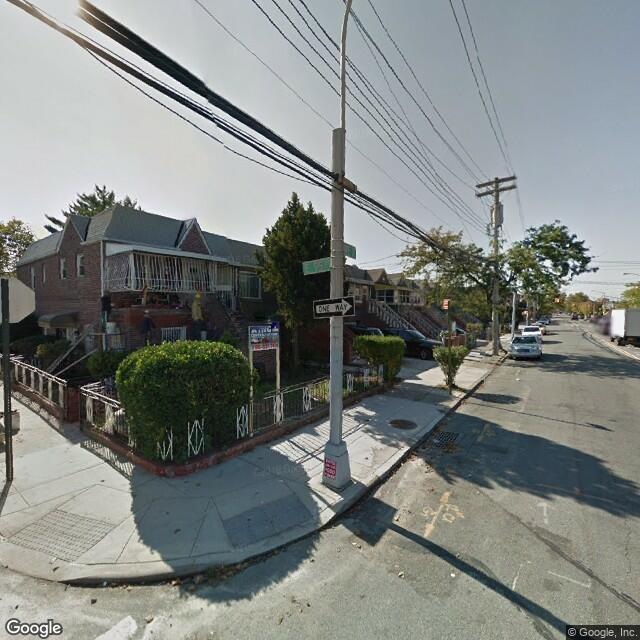litter: (396, 570, 409, 577), (365, 416, 375, 424), (46, 558, 58, 563), (206, 627, 214, 634), (430, 437, 438, 443), (256, 499, 267, 503), (351, 540, 359, 545), (449, 571, 455, 577), (389, 390, 398, 394), (397, 461, 403, 466), (275, 477, 282, 481), (514, 376, 520, 380), (99, 583, 105, 587), (475, 491, 481, 492)
